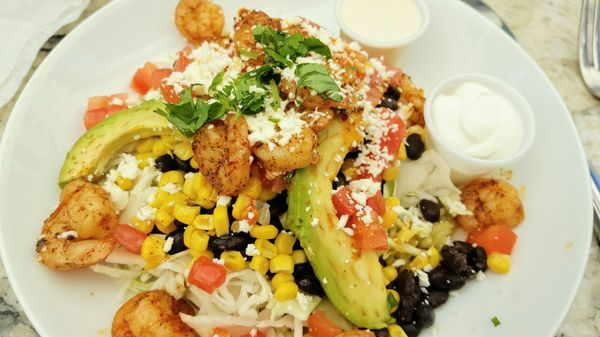curry: (9, 1, 598, 334)
pizza: (468, 223, 518, 255)
